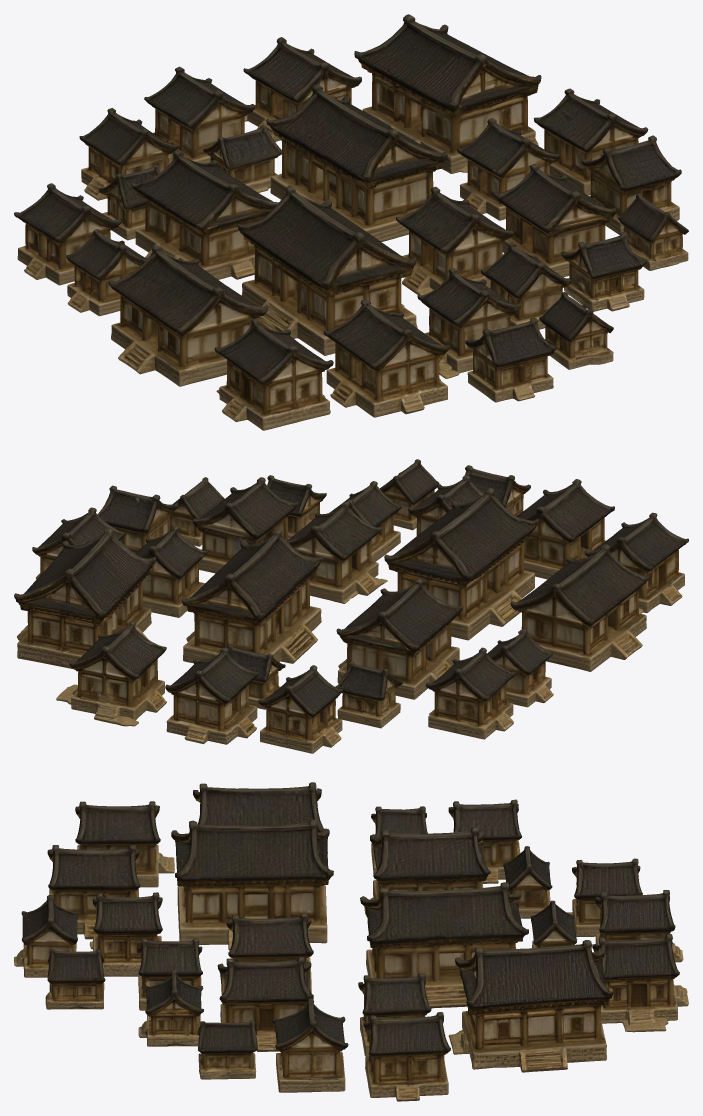
The model's file is Classical Town (East Asian).fbx.
3 renders of one model, top to bottom at view 1: azimuth 30°, elevation 25°; view 2: azimuth 150°, elevation 25°; view 3: azimuth 270°, elevation 25°, orthographic. The views are drawn at different scales.
Parts seen in each view (by area): view 1: tripo_node_6b7c21a2; view 2: tripo_node_6b7c21a2; view 3: tripo_node_6b7c21a2.
Part boxes in pixels (box(x1,y1,x2,y2)): tripo_node_6b7c21a2: box(14, 14, 688, 430); tripo_node_6b7c21a2: box(14, 459, 688, 753); tripo_node_6b7c21a2: box(14, 782, 688, 1101).
Bounding box in the file's own units: 0.9436 × 0.1786 × 1.
